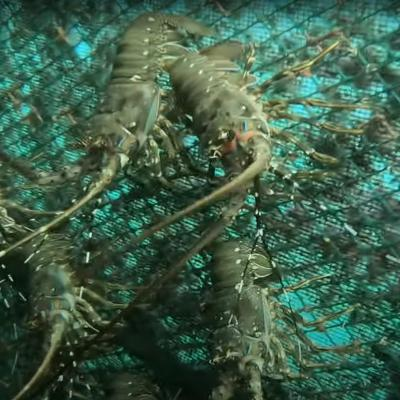lobster: (168, 58, 276, 179), (85, 16, 158, 167), (206, 246, 277, 385), (9, 238, 82, 350)
